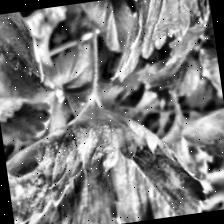Powdery Mildew Leaf: (0, 91, 146, 224), (101, 95, 211, 224)
